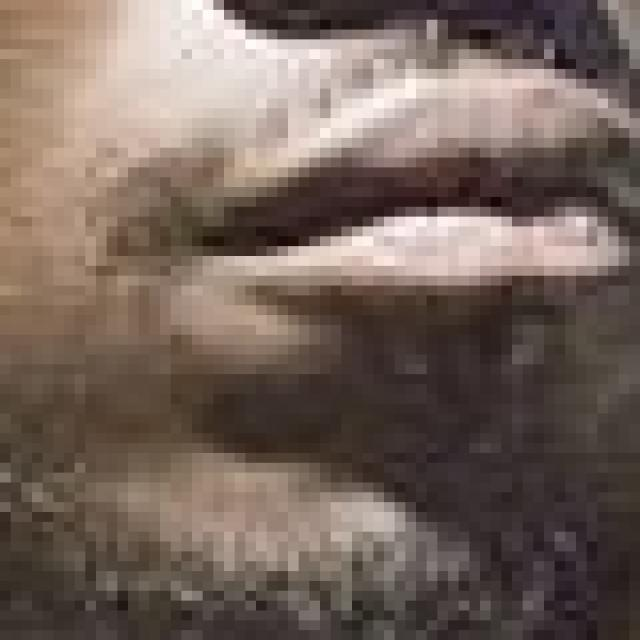closed-mouth: (192, 147, 630, 296)
